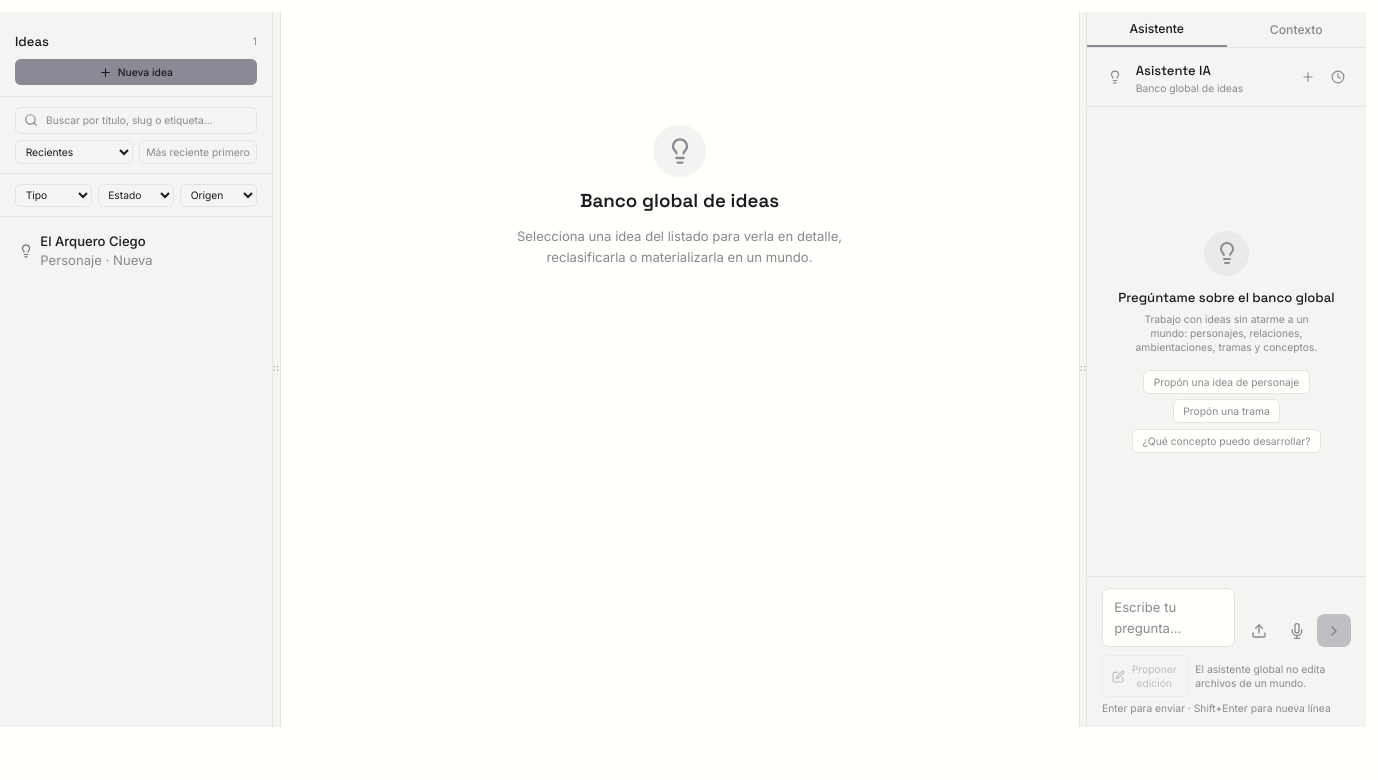
Test: IdeasWorkshop › shows the no-match state when the search filters everything out
Expected: the button "El Arquero Ciego Personaje · Nueva" is shown, [8,225,264,277]
Step 1. Type "zzz" into the field named "Buscar ideas" → (136, 120), box [15,107,257,134]
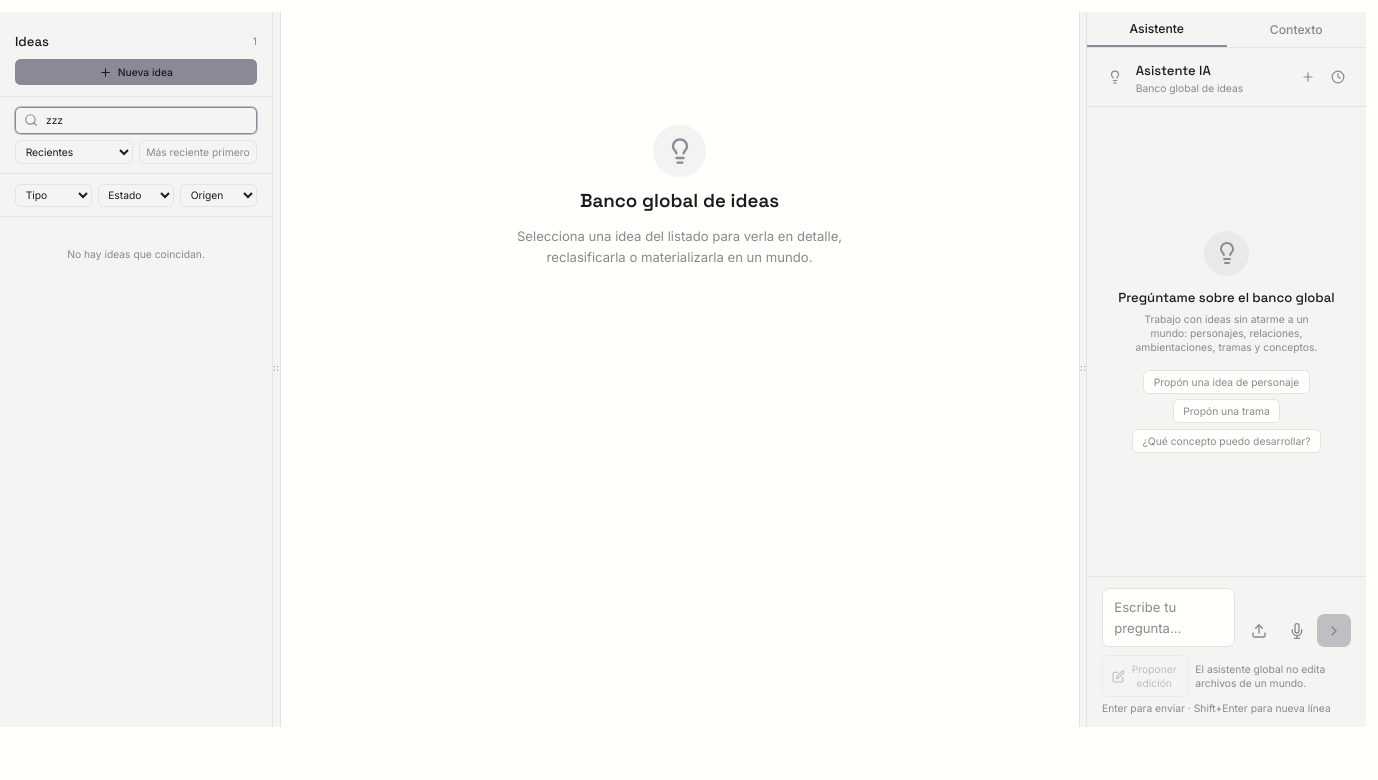
Expected: the text "No hay ideas que coincidan." is shown, [67,248,205,260]
